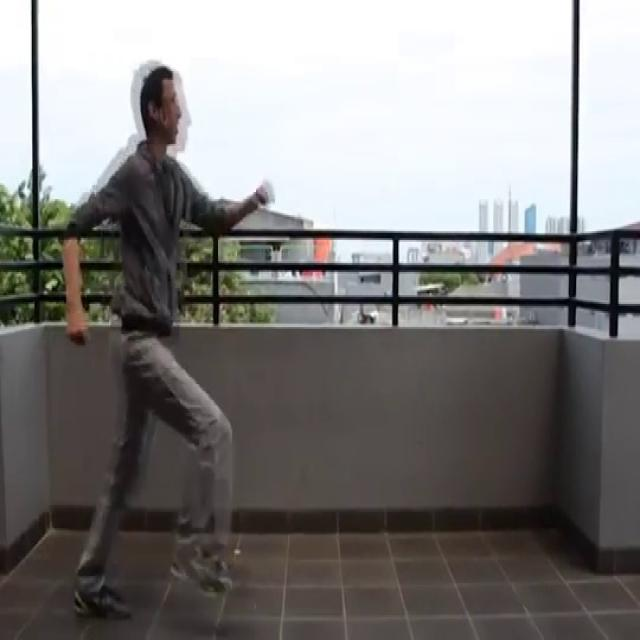normal: (60, 51, 281, 634)
